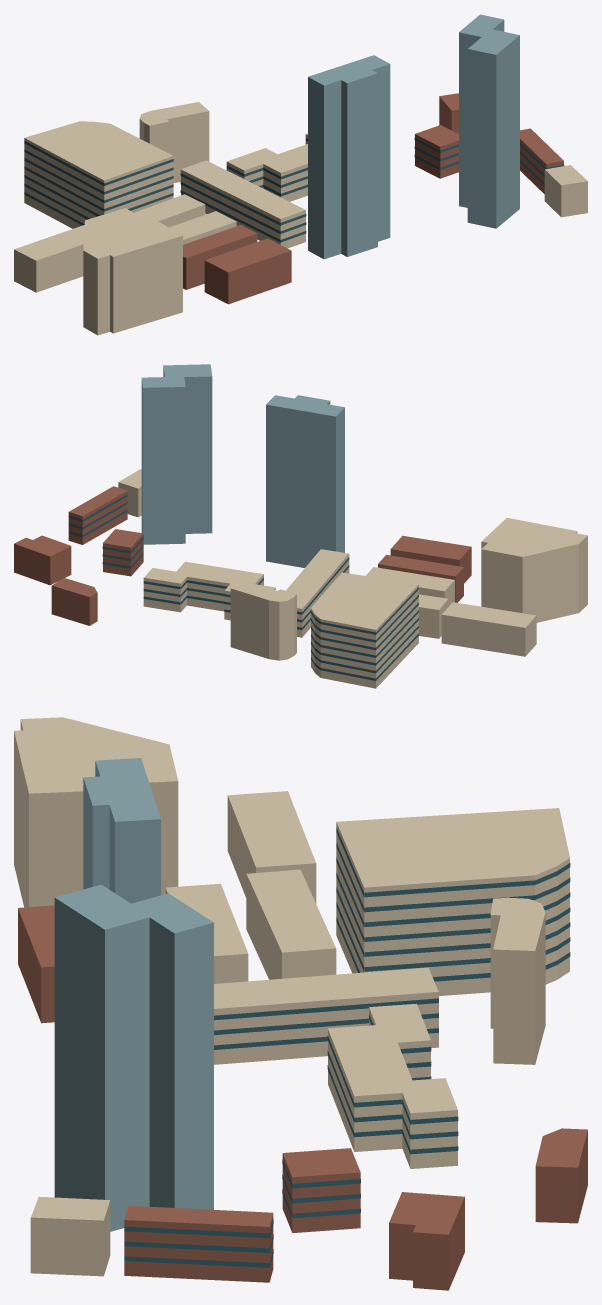
The model's file is city_-3_4.glb.
The picture shows the model from 3 angles, top to bottom: view 1: azimuth 30°, elevation 25°; view 2: azimuth 150°, elevation 25°; view 3: azimuth 270°, elevation 25°; orthographic projection. The views are drawn at different scales.
Visible parts, largest first — view 1: city_-3_4; view 2: city_-3_4; view 3: city_-3_4.
Boxes of the visible parts, bbox=[...] form: city_-3_4: bbox=[14, 14, 587, 335]; city_-3_4: bbox=[14, 364, 587, 688]; city_-3_4: bbox=[14, 717, 587, 1290].
Bounding box in the file's own units: 256 × 81.6 × 140.
